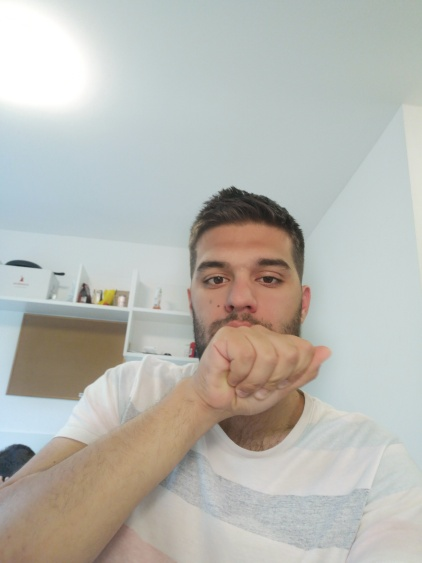A: (191, 325, 333, 417)
